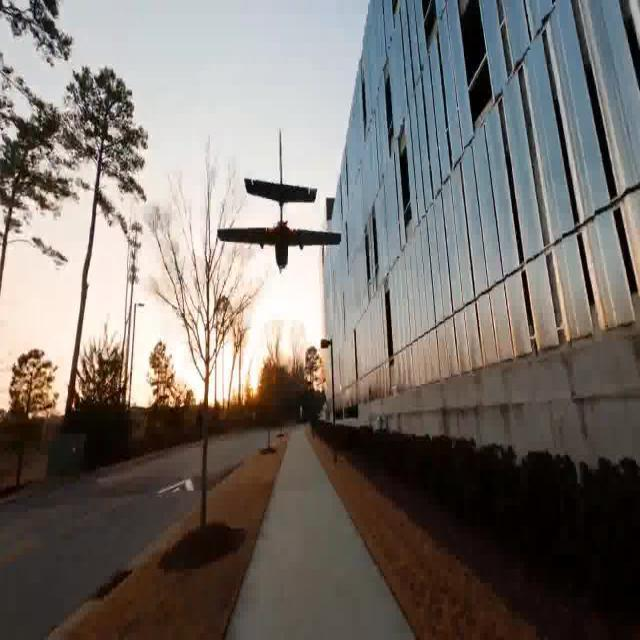iha: (212, 120, 346, 271)
